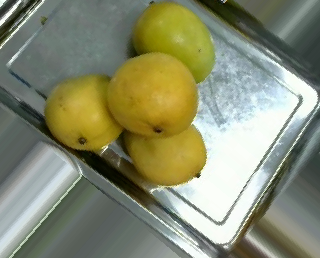Mango: (108, 51, 198, 135), (131, 0, 214, 83), (44, 75, 123, 150), (124, 113, 206, 185)
